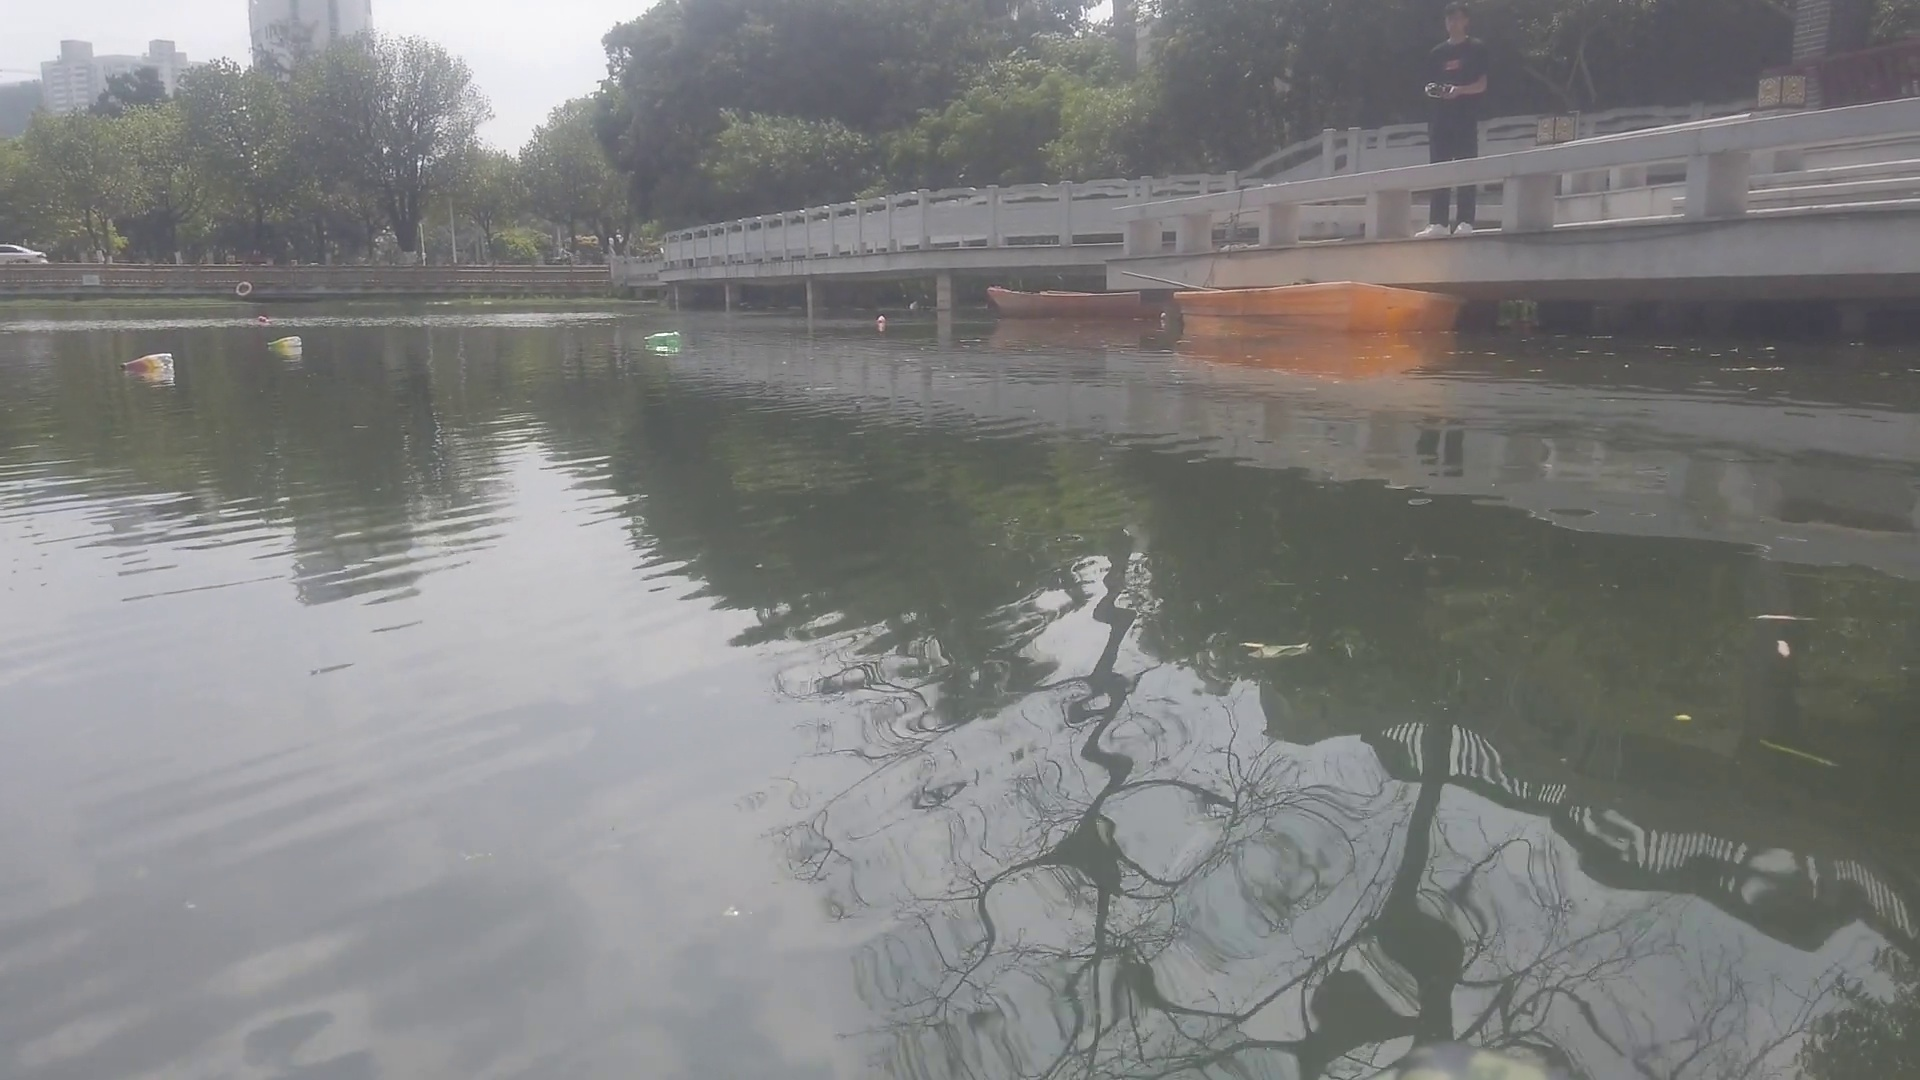bottle: (120, 349, 170, 367), (644, 328, 683, 343), (262, 332, 301, 345), (256, 313, 270, 326), (874, 314, 885, 326)
